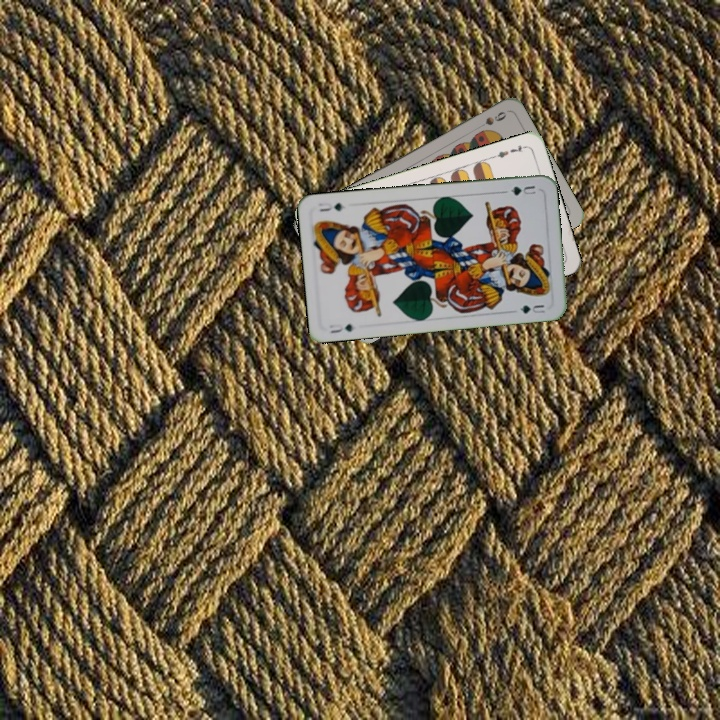E7: (489, 141, 529, 161)
GU: (500, 181, 538, 198), (325, 320, 356, 336)
S9: (474, 107, 509, 130)
